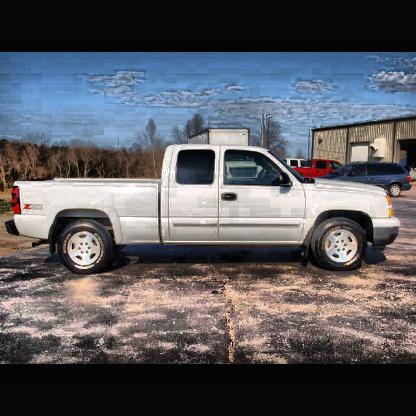Chevrolet Silverado 1500 Classic Extended Cab 2007: (6, 145, 402, 276)
